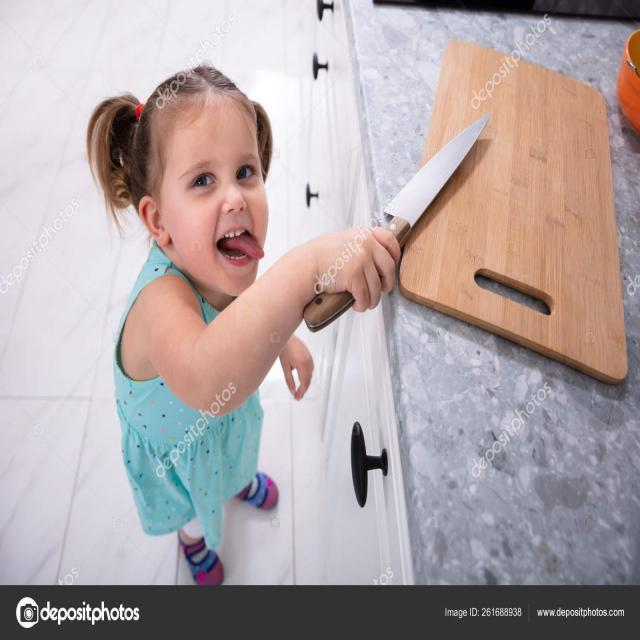child: (84, 62, 503, 586)
